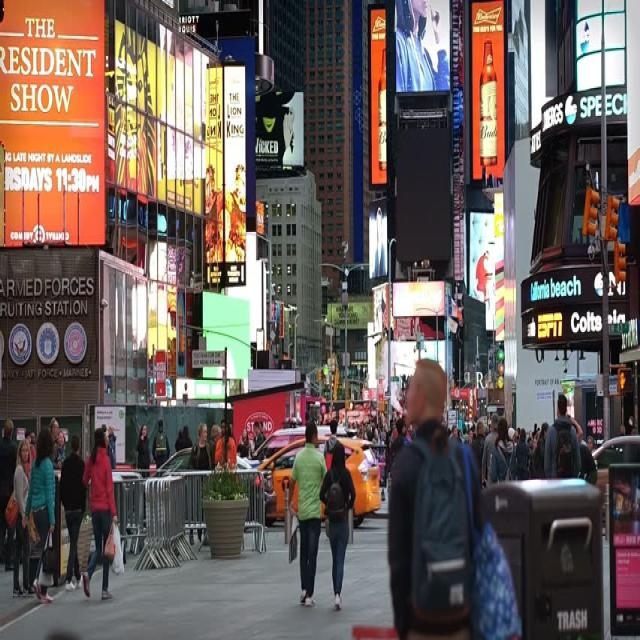body: (387, 357, 482, 640), (112, 24, 158, 193), (287, 419, 327, 609), (317, 440, 357, 613), (81, 425, 119, 600), (23, 424, 57, 607), (3, 436, 37, 600), (57, 429, 89, 592), (395, 0, 448, 91), (206, 150, 246, 270), (283, 398, 384, 442), (253, 87, 306, 168), (542, 391, 583, 481), (372, 371, 412, 458), (186, 418, 213, 546), (441, 409, 541, 442), (0, 416, 20, 573), (472, 209, 496, 307), (568, 416, 599, 488), (488, 415, 518, 485), (481, 410, 500, 490), (529, 420, 550, 479), (152, 419, 171, 477), (322, 417, 342, 472), (170, 24, 194, 65), (514, 425, 530, 480), (136, 422, 151, 478), (373, 208, 385, 276), (474, 419, 487, 480), (101, 422, 115, 466), (252, 420, 266, 463), (210, 423, 223, 469), (23, 429, 34, 483), (585, 433, 599, 472), (236, 427, 252, 461), (50, 416, 59, 469), (24, 429, 36, 467), (108, 424, 118, 469), (54, 429, 66, 464), (181, 424, 194, 449), (174, 429, 187, 452), (589, 413, 604, 431), (220, 419, 233, 436), (626, 411, 634, 436), (258, 420, 266, 443), (270, 293, 276, 319), (220, 419, 226, 437), (30, 431, 36, 446)
